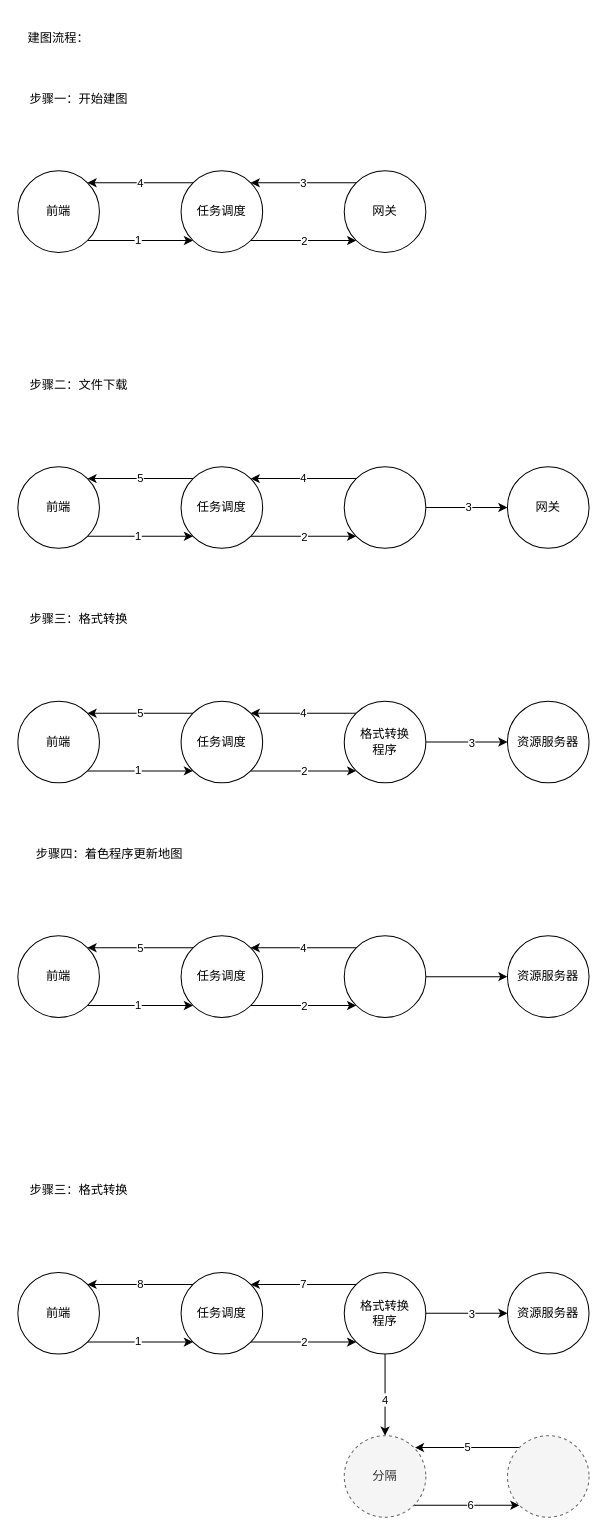
Some shapes in this 607 by 1535 pixel diagram are drawn without their labels. Here are the shapes that lost their labels. From the top down, the box of each, then its label:
(343, 466, 426, 548): 资源服务器 ftp客户端
(343, 935, 426, 1017): 着色程序
(506, 1435, 589, 1517): 保存到平台
